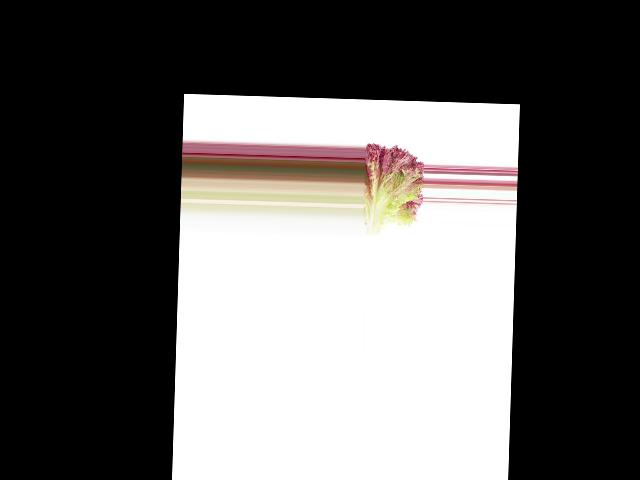lettuce: (362, 137, 423, 239)
